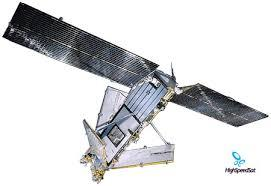solar: (0, 0, 162, 90), (168, 81, 271, 129)
